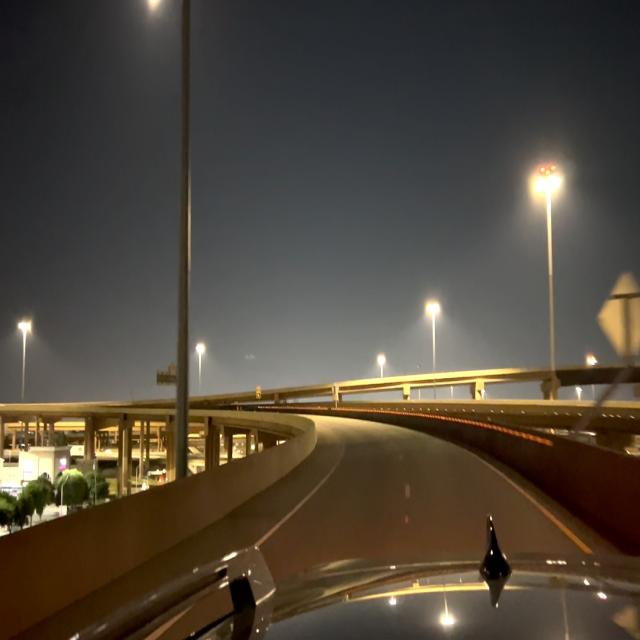back-of-sign: (598, 265, 640, 366)
